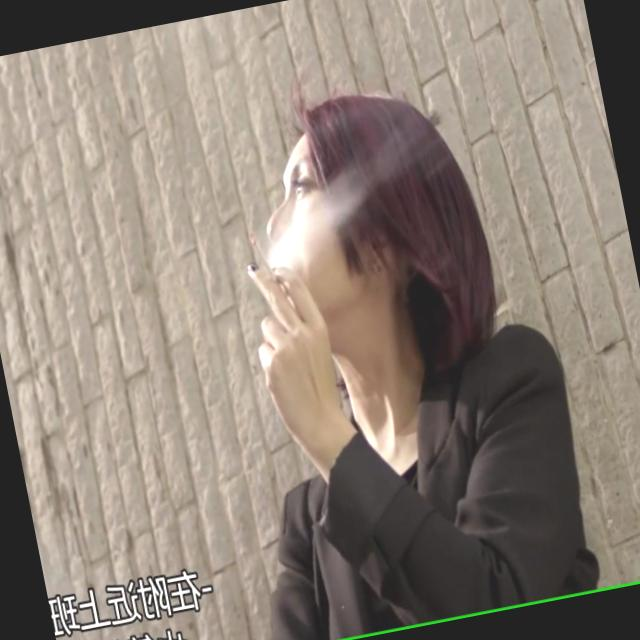cigarette: (250, 228, 270, 272)
